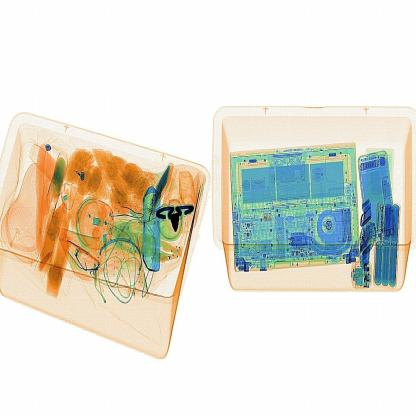gun: (148, 187, 196, 234)
